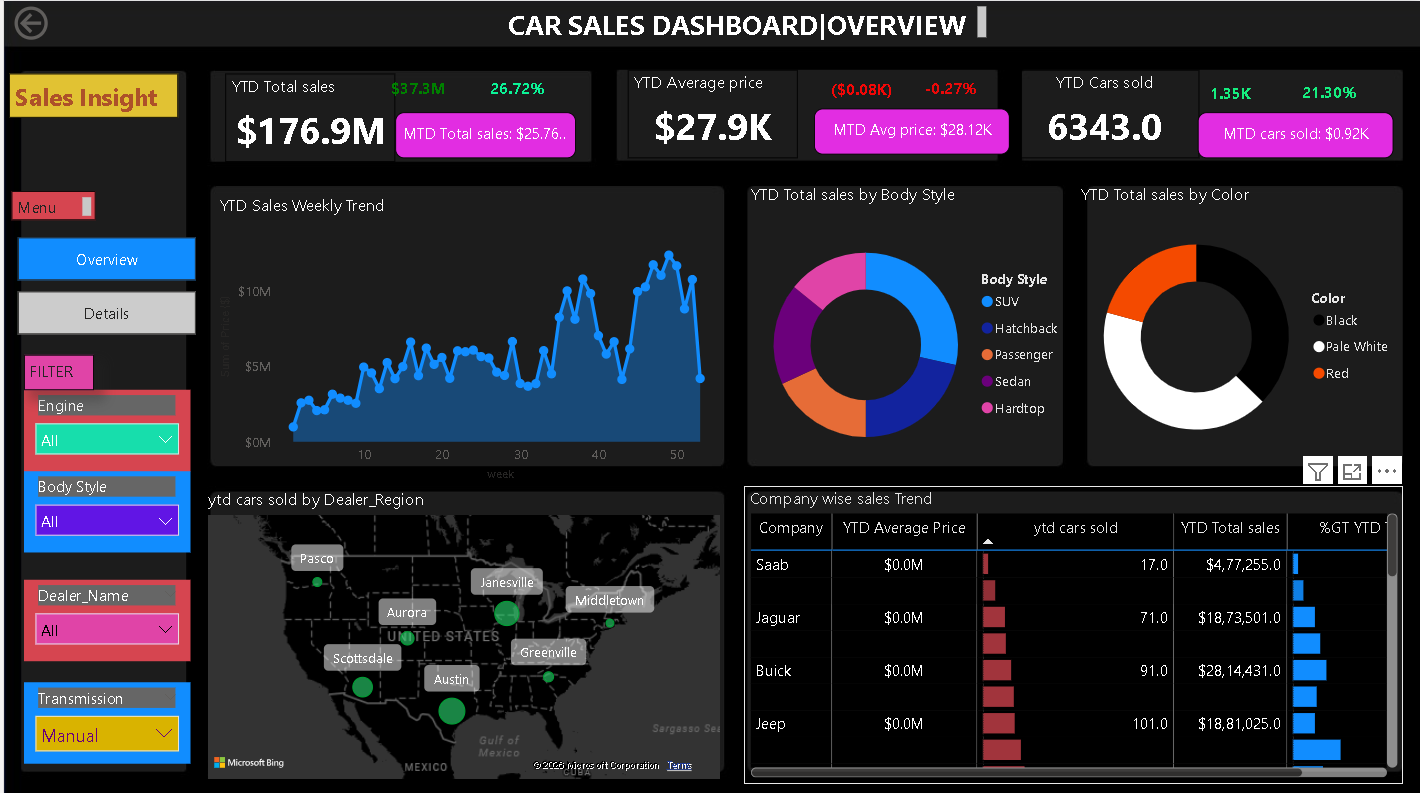

What the dashboard file says about the page in this screenshot:
{"tool":"powerbi","page":{"name":"Overview","canvas":[1280,720],"ordinal":0},"visuals":[{"type":"card","title":"YTD Total sales","fields":{"Values":["car_data.YTD Total sales"]},"box":[200,65,153.3,80],"z":0},{"type":"card","fields":{"Values":["car_data.sales difference"]},"box":[316.7,65,116.7,31.7],"z":1000},{"type":"card","fields":{"Values":["car_data.you sales growth"]},"box":[410,65,106.7,31.7],"z":2000},{"type":"card","fields":{"Values":["car_data.MTD KPI"]},"box":[353.3,100,163.3,41.7],"z":3000},{"type":"card","title":"YTD Average  price","fields":{"Values":["car_data.YTD Average Price"]},"box":[563.3,61.7,153.3,80],"z":4000},{"type":"card","fields":{"Values":["car_data.Average price diff"]},"box":[717.1,65.3,117.1,31.8],"z":5000},{"type":"card","fields":{"Values":["car_data.YOY avg price growth"]},"box":[801.7,65,106.7,31.7],"z":6000},{"type":"card","fields":{"Values":["car_data.MTD avg price kpi"]},"box":[731.7,96.7,176.7,41.7],"z":7000},{"type":"card","title":"YTD Cars sold","fields":{"Values":["car_data.ytd cars sold"]},"box":[908.3,61.7,171.7,80],"z":8000},{"type":"card","fields":{"Values":["car_data.cars sold diff"]},"box":[1050,70,116.7,31.7],"z":9000},{"type":"card","fields":{"Values":["car_data.MTD cars sold kpi"]},"box":[1078.6,100,177.1,41.4],"z":10000},{"type":"areaChart","title":"YTD Sales Weekly Trend","fields":{"Category":["calendar table.week"],"Y":["Sum(car_data.Price ($))"]},"box":[190,174.3,461.4,264.3],"z":11000},{"type":"donutChart","fields":{"Category":["car_data.Body Style"],"Y":["car_data.YTD Total sales"]},"box":[670,164.3,297.1,274.3],"z":12000},{"type":"donutChart","fields":{"Y":["car_data.YTD Total sales"],"Series":["car_data.Color"]},"box":[967.1,164.3,297.1,260],"z":13000},{"type":"map","fields":{"Category":["car_data.Dealer_Region"],"Size":["car_data.ytd cars sold"]},"box":[180,438.8,471.8,268.2],"z":14000},{"type":"actionButton","box":[5,0,100,40],"z":15000},{"type":"slicer","fields":{"Values":["car_data.Body Style"]},"box":[18.3,425,150,73.3],"z":16000},{"type":"card","fields":{"Values":["car_data.yoy car sold growth"]},"box":[1138,69.1,117.9,31.2],"z":17000},{"type":"tableEx","title":"Company wise sales Trend","fields":{"Values":["car_data.Company","car_data.YTD Average Price","car_data.ytd cars sold","car_data.YTD Total sales1","car_data.YTD Total sales"]},"box":[668.3,438.3,595,268.3],"z":18000},{"type":"textbox","box":[450,0,441.7,40],"z":19000},{"type":"slicer","fields":{"Values":["car_data.Dealer_Name"]},"box":[18.3,523.3,150,73.3],"z":20000},{"type":"slicer","fields":{"Values":["car_data.Engine"]},"box":[18.3,351.7,150,73.3],"z":21000},{"type":"textbox","box":[18.3,320,63.3,31.7],"z":22000},{"type":"slicer","fields":{"Values":["car_data.Transmission"]},"box":[18.3,615,150,73.3],"z":23000},{"type":"pageNavigator","box":[12.4,213.4,161.5,88.1],"z":24000},{"type":"textbox","box":[5,65,152.5,40],"z":25000},{"type":"textbox","box":[6.2,171.2,76.2,26.2],"z":26000}]}

Visuals, with their boxes in screenshot pixels (x1, y1, x2, y2), scaled from the page's 1280x720 canvas onto the 1420x793 screenshot:
"YTD Total sales" card: (x1=222, y1=72, x2=392, y2=160)
card - car_data.sales difference: (x1=351, y1=72, x2=481, y2=107)
card - car_data.you sales growth: (x1=455, y1=72, x2=573, y2=107)
card - car_data.MTD KPI: (x1=392, y1=110, x2=573, y2=156)
"YTD Average  price" card: (x1=625, y1=68, x2=795, y2=156)
card - car_data.Average price diff: (x1=796, y1=72, x2=925, y2=107)
card - car_data.YOY avg price growth: (x1=889, y1=72, x2=1008, y2=107)
card - car_data.MTD avg price kpi: (x1=812, y1=107, x2=1008, y2=152)
"YTD Cars sold" card: (x1=1008, y1=68, x2=1198, y2=156)
card - car_data.cars sold diff: (x1=1165, y1=77, x2=1294, y2=112)
card - car_data.MTD cars sold kpi: (x1=1197, y1=110, x2=1393, y2=156)
"YTD Sales Weekly Trend" areaChart: (x1=211, y1=192, x2=723, y2=483)
donutChart - car_data.Body Style x car_data.YTD Total sales: (x1=743, y1=181, x2=1073, y2=483)
donutChart - car_data.YTD Total sales x car_data.Color: (x1=1073, y1=181, x2=1402, y2=467)
map - car_data.Dealer_Region x car_data.ytd cars sold: (x1=200, y1=483, x2=723, y2=779)
actionButton: (x1=6, y1=0, x2=116, y2=44)
slicer - car_data.Body Style: (x1=20, y1=468, x2=187, y2=549)
card - car_data.yoy car sold growth: (x1=1262, y1=76, x2=1393, y2=110)
"Company wise sales Trend" tableEx: (x1=741, y1=483, x2=1401, y2=778)
textbox: (x1=499, y1=0, x2=989, y2=44)
slicer - car_data.Dealer_Name: (x1=20, y1=576, x2=187, y2=657)
slicer - car_data.Engine: (x1=20, y1=387, x2=187, y2=468)
textbox: (x1=20, y1=352, x2=91, y2=387)
slicer - car_data.Transmission: (x1=20, y1=677, x2=187, y2=758)
pageNavigator: (x1=14, y1=235, x2=193, y2=332)
textbox: (x1=6, y1=72, x2=175, y2=116)
textbox: (x1=7, y1=189, x2=91, y2=217)
